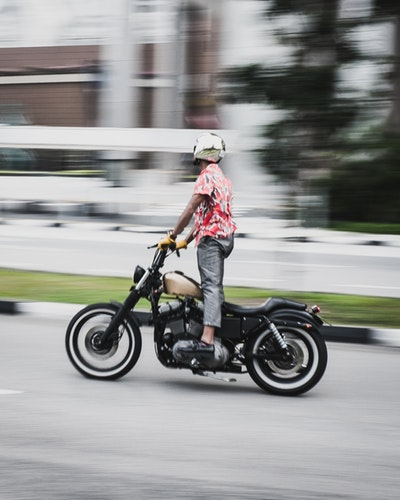helmet: (187, 133, 231, 168)
